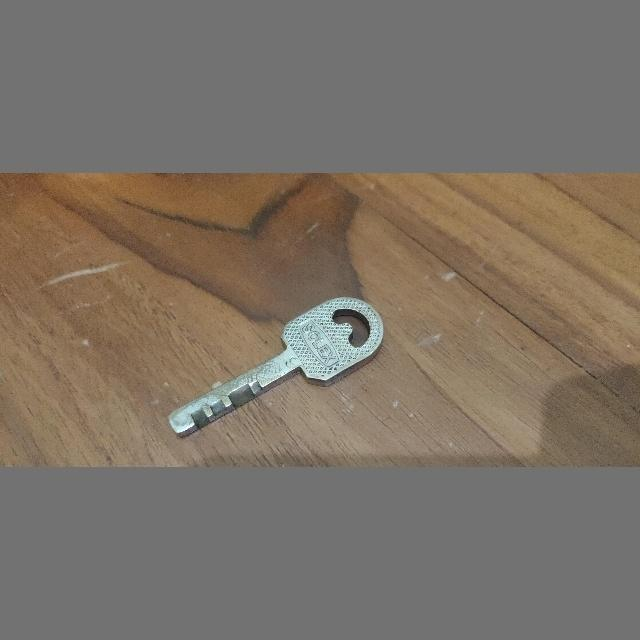Keys: (164, 284, 392, 448)
